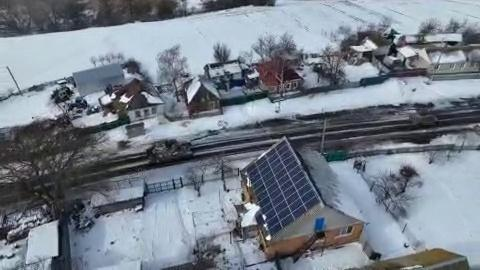armored_car: (407, 105, 441, 129)
car: (66, 97, 90, 111), (52, 90, 70, 106)
sau: (147, 132, 216, 164)
